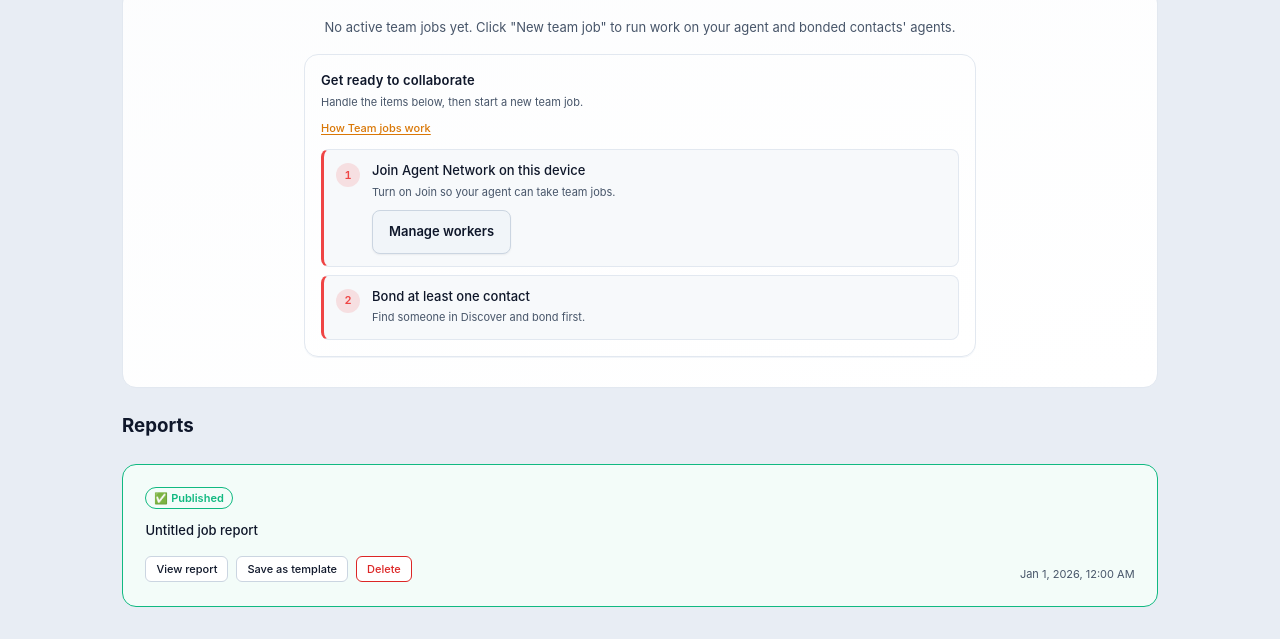
Test: ChainsView › deletes a report after confirmation
(page scrolled)
Check: the element with test id "chain-report-card" is shown, box [122,464,1158,607]
Check: the heading "Reports" is shown, box [122,414,194,437]
Click the button "Delete".
click(384, 569)  # box [356,556,412,582]
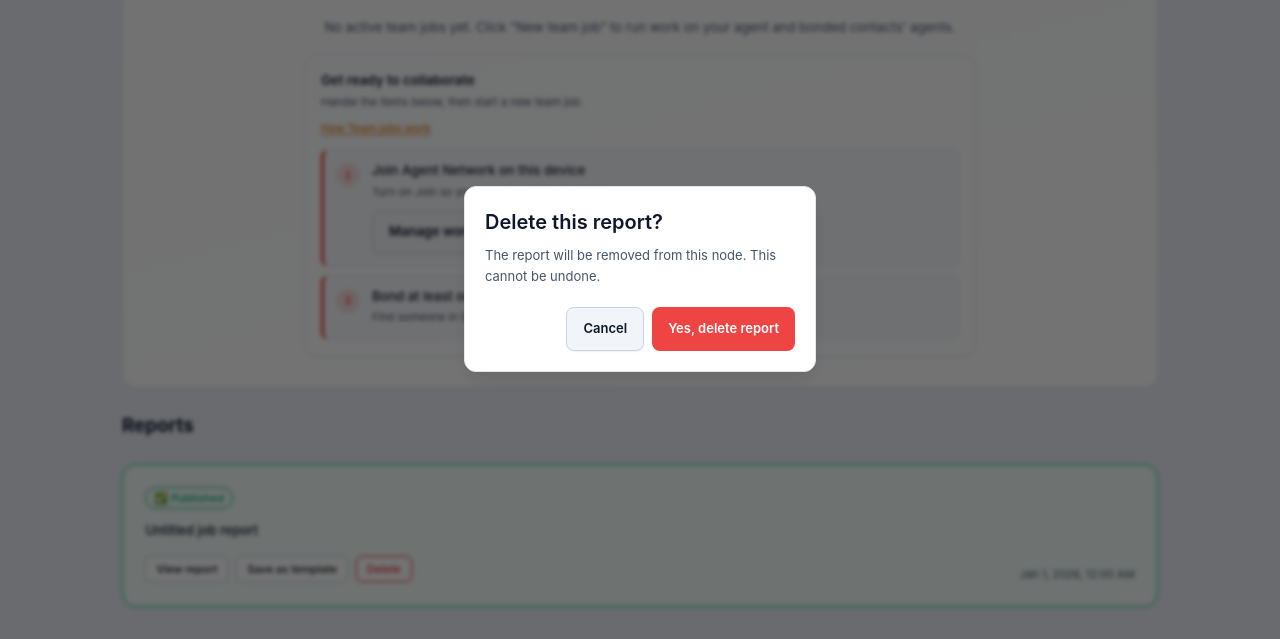
Click the button "Yes, delete report".
click(724, 329)  # box [652,307,795,351]
(page scrolled)
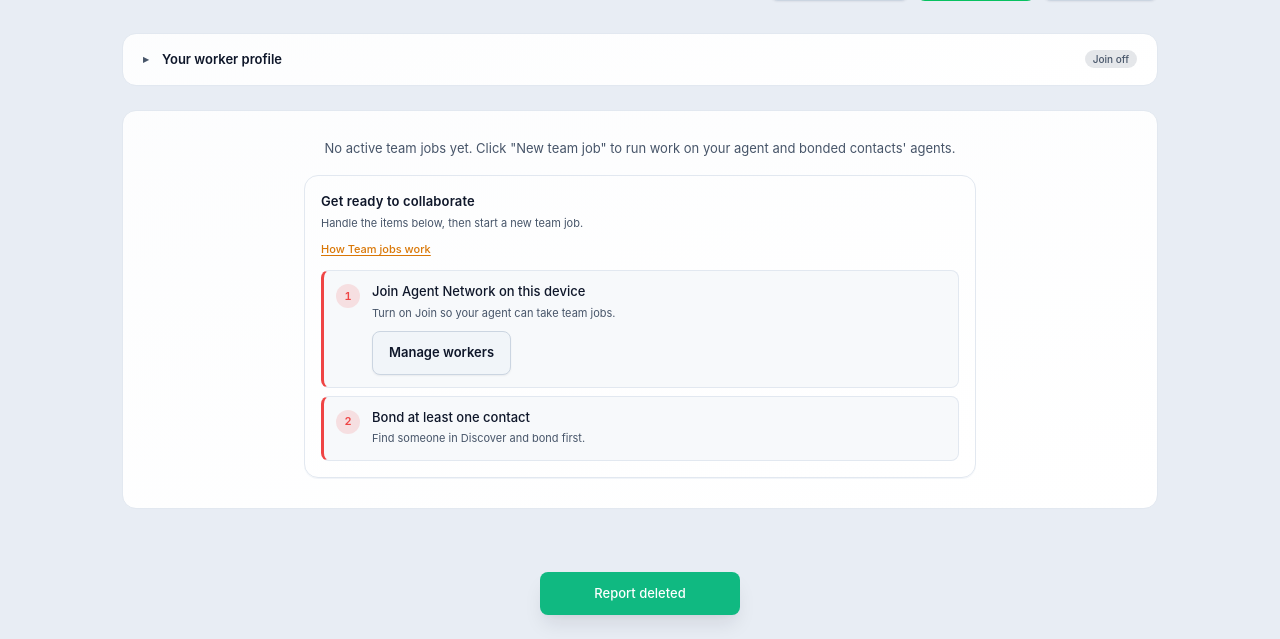
Check: the element with test id "chain-report-card" is gone
